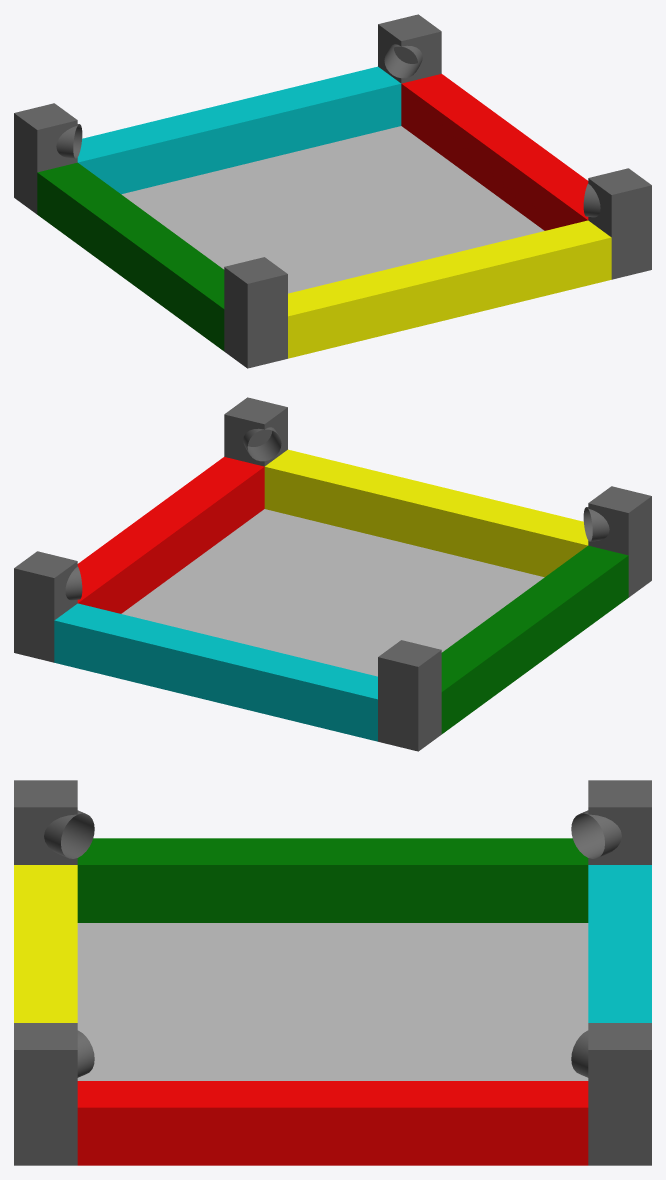
File: nivel.fbx
3 views of the same model, one above another, from view 1: azimuth 30°, elevation 25°; view 2: azimuth 150°, elevation 25°; view 3: azimuth 270°, elevation 25° (orthographic). The views are drawn at different scales.
Parts seen in each view (by area): view 1: Group2, Group4, Group3, Group5, Group1, Group8, Group9, Group7, Group6; view 2: Group2, Group3, Group4, Group5, Group1, Group7, Group6, Group8, Group9; view 3: Group2, Group1, Group5, Group3, Group4, Group6, Group9, Group7, Group8.
Boxes of the visible parts, box(x1,y1,x2,y2) form: Group2: box(121, 126, 544, 293); Group4: box(288, 220, 611, 358); Group3: box(77, 66, 401, 194); Group5: box(37, 162, 224, 351); Group1: box(401, 74, 588, 230); Group8: box(224, 257, 287, 368); Group9: box(583, 168, 651, 279); Group7: box(14, 103, 82, 214); Group6: box(378, 14, 441, 83); Group2: box(121, 509, 544, 676); Group3: box(54, 603, 377, 741); Group4: box(264, 449, 588, 577); Group5: box(441, 545, 628, 734); Group1: box(77, 457, 264, 613); Group7: box(378, 640, 441, 751); Group6: box(14, 551, 82, 662); Group8: box(583, 486, 651, 597); Group9: box(224, 397, 287, 466); Group2: box(77, 923, 588, 1080); Group1: box(77, 1081, 588, 1165); Group5: box(77, 838, 588, 922); Group3: box(588, 865, 651, 1022); Group4: box(14, 865, 77, 1022); Group6: box(571, 1023, 651, 1165); Group9: box(14, 1023, 94, 1165); Group7: box(571, 780, 651, 864); Group8: box(14, 780, 94, 864).
Bounding box in the file's own units: 20 × 4 × 20.
